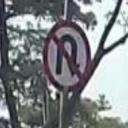NoVirarU: (44, 20, 90, 90)
